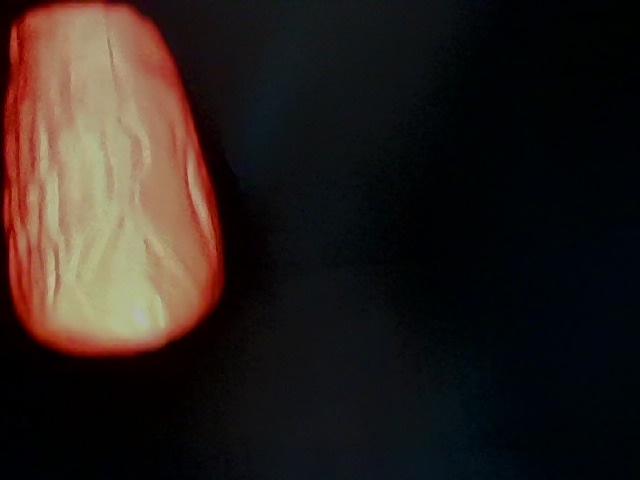YHLJ: (491, 202, 617, 290)
